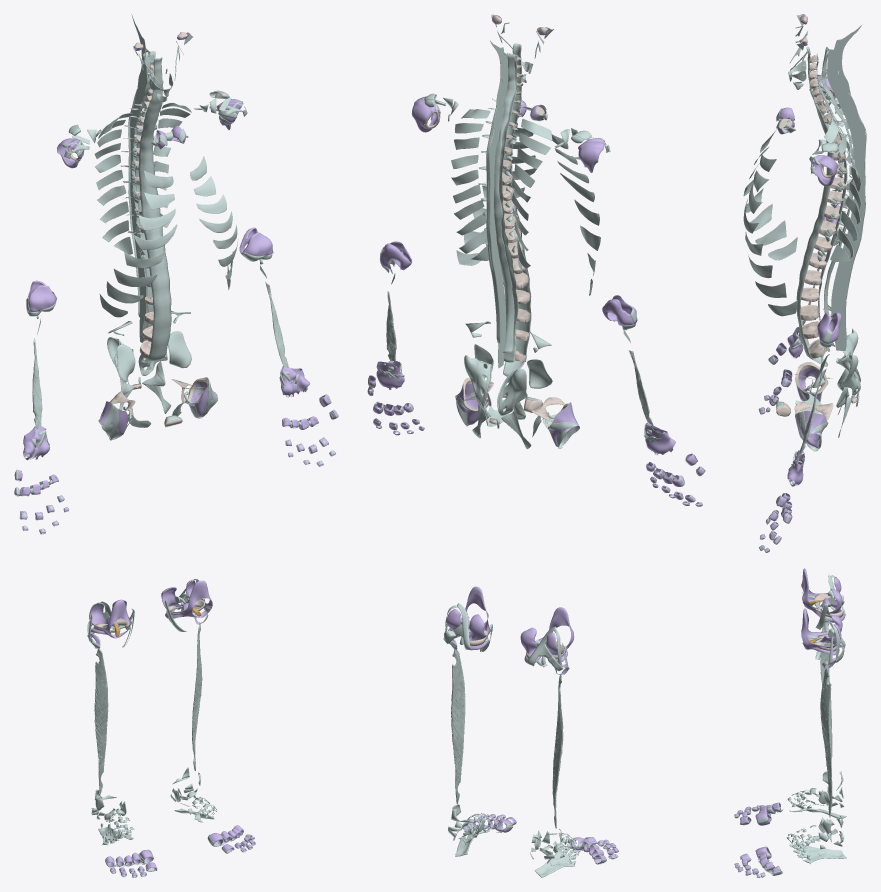
Rendered from joints.glb.
The picture shows the model from 3 angles, left to right: view 1: azimuth 30°, elevation 25°; view 2: azimuth 150°, elevation 25°; view 3: azimuth 270°, elevation 25°; orthographic projection. The views are drawn at different scales.
Parts seen in each view (by area): view 1: Anterior longitudinal ligament, External intercostal membrane.r, Internal intercostal membrane.r, External intercostal membrane.l, Interosseous membrane of leg.r, Interspinous ligaments, Articular capsule of knee joint.l, Internal intercostal membrane.l, Articular capsule of knee joint.r, Articular capsule of elbow joint.l, Interosseous membrane of leg.l, Articular capsule of elbow joint.r (+2 smaller); view 2: Internal intercostal membrane.l, Ligamenta flava, Interspinous ligaments, Internal intercostal membrane.r, Interosseous membrane of leg.l, Anterior longitudinal ligament, External intercostal membrane.r, Posterior longitudinal ligament, Articular capsule of knee joint.l, Supraspinous ligament, Articular capsule of knee joint.r, Posterior sacro-iliac ligament.r (+4 smaller); view 3: Interspinous ligaments, External intercostal membrane.l, Internal intercostal membrane.l, Anterior longitudinal ligament, External intercostal membrane.r, Interosseous membrane of leg.l, Ligamenta flava, Articular capsule of knee joint.l, Articular capsule of knee joint.r, Posterior longitudinal ligament, Long plantar ligament.l, Articular capsule of elbow joint.l (+14 smaller).
Part boxes in pixels (bbox=[...]): Anterior longitudinal ligament: bbox=[138, 57, 171, 363]; External intercostal membrane.r: bbox=[99, 170, 177, 317]; Internal intercostal membrane.r: bbox=[94, 113, 132, 254]; External intercostal membrane.l: bbox=[190, 156, 238, 289]; Interosseous membrane of leg.r: bbox=[94, 648, 108, 794]; Interspinous ligaments: bbox=[130, 50, 149, 342]; Articular capsule of knee joint.l: bbox=[161, 579, 212, 618]; Internal intercostal membrane.l: bbox=[153, 102, 191, 235]; Articular capsule of knee joint.r: bbox=[90, 599, 131, 638]; Articular capsule of elbow joint.l: bbox=[239, 227, 272, 261]; Interosseous membrane of leg.l: bbox=[192, 622, 202, 770]; Articular capsule of elbow joint.r: bbox=[27, 280, 56, 311]; Internal intercostal membrane.l: bbox=[451, 109, 490, 260]; Ligamenta flava: bbox=[494, 53, 515, 353]; Interspinous ligaments: bbox=[488, 53, 508, 368]; Internal intercostal membrane.r: bbox=[512, 119, 552, 271]; Interosseous membrane of leg.l: bbox=[451, 649, 465, 804]; Anterior longitudinal ligament: bbox=[502, 43, 531, 376]; External intercostal membrane.r: bbox=[551, 134, 600, 295]; Posterior longitudinal ligament: bbox=[499, 53, 518, 362]; Articular capsule of knee joint.l: bbox=[446, 586, 490, 649]; Supraspinous ligament: bbox=[486, 108, 500, 343]; Articular capsule of knee joint.r: bbox=[520, 607, 574, 662]; Posterior sacro-iliac ligament.r: bbox=[497, 368, 527, 415]; Interspinous ligaments: bbox=[826, 49, 865, 350]; External intercostal membrane.l: bbox=[743, 154, 797, 316]; Internal intercostal membrane.l: bbox=[824, 116, 861, 262]; Anterior longitudinal ligament: bbox=[796, 46, 833, 366]; External intercostal membrane.r: bbox=[743, 129, 797, 260]; Interosseous membrane of leg.l: bbox=[820, 667, 832, 817]; Ligamenta flava: bbox=[822, 47, 854, 320]; Articular capsule of knee joint.l: bbox=[801, 608, 842, 655]; Articular capsule of knee joint.r: bbox=[801, 568, 844, 622]; Posterior longitudinal ligament: bbox=[816, 53, 847, 351]; Long plantar ligament.l: bbox=[789, 843, 846, 864]; Articular capsule of elbow joint.l: bbox=[817, 312, 841, 343].
Size of the model in its own units: 0.6615 by 1.58 by 0.2308.
